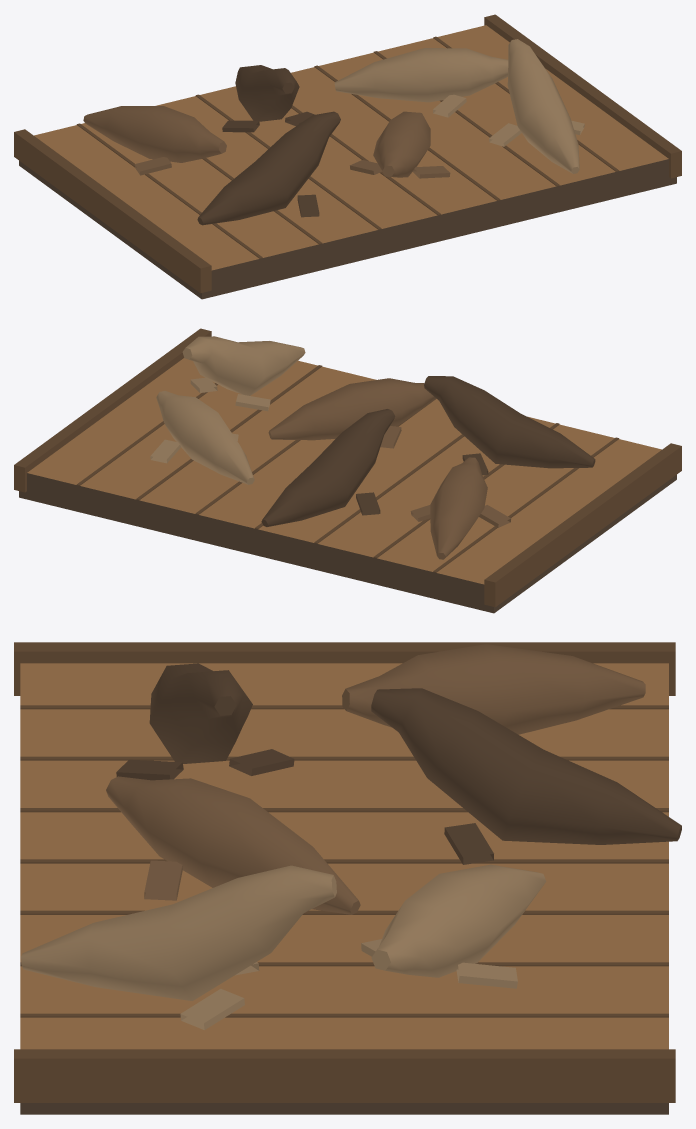
Rendered from sf_sea_lion_float.glb.
3 views of the same model, one above another, from view 1: azimuth 30°, elevation 25°; view 2: azimuth 150°, elevation 25°; view 3: azimuth 270°, elevation 25° (orthographic). The views are drawn at different scales.
Parts seen in each view (by area): view 1: sf_sea_lion_float; view 2: sf_sea_lion_float; view 3: sf_sea_lion_float.
Boxes of the visible parts, <box> form: sf_sea_lion_float: <box>14,14,681,299</box>; sf_sea_lion_float: <box>14,328,681,613</box>; sf_sea_lion_float: <box>14,642,681,1114</box>.
Bounding box in the file's own units: 6.08 × 1.2 × 4.12.
1 material, 1 textured.
